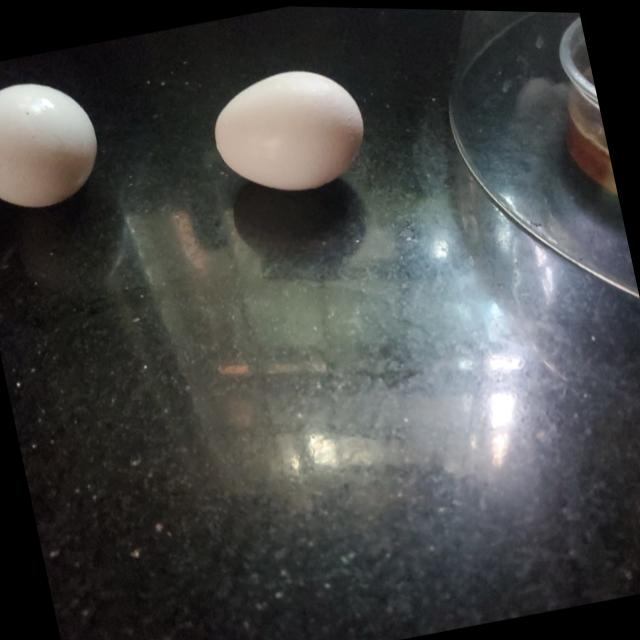egg: (199, 50, 373, 202), (0, 66, 109, 219)
